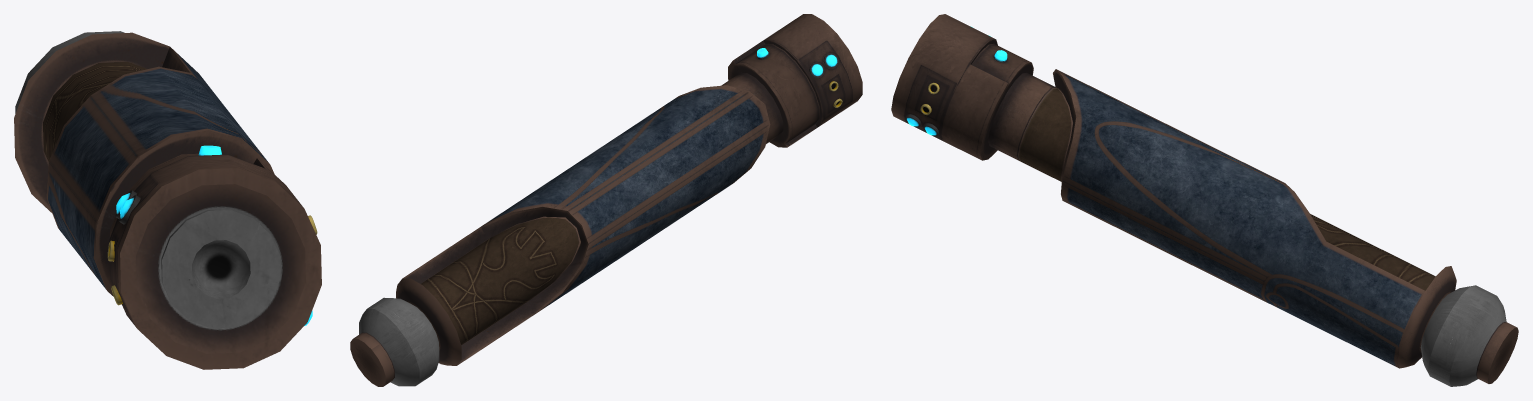
3 renders of one model, left to right at view 1: azimuth 30°, elevation 25°; view 2: azimuth 150°, elevation 25°; view 3: azimuth 270°, elevation 25°, orthographic. The views are drawn at different scales.
Visible parts, largest first — view 1: base_low_tex_0, grip_low_tex_0, det_low_tex_0; view 2: grip_low_tex_0, base_low_tex_0, det_low_tex_0; view 3: grip_low_tex_0, base_low_tex_0, det_low_tex_0.
Boxes of the visible parts, x1=… form: base_low_tex_0: x1=15, y1=31, x2=321, y2=369; grip_low_tex_0: x1=14, y1=32, x2=274, y2=296; det_low_tex_0: x1=107, y1=145, x2=317, y2=325; grip_low_tex_0: x1=396, y1=85, x2=770, y2=365; base_low_tex_0: x1=350, y1=14, x2=862, y2=386; det_low_tex_0: x1=757, y1=48, x2=842, y2=107; grip_low_tex_0: x1=1053, y1=69, x2=1456, y2=368; base_low_tex_0: x1=891, y1=14, x2=1518, y2=386; det_low_tex_0: x1=905, y1=26, x2=1007, y2=136.
Bounding box in the file's own units: 5.9 × 4.98 × 10.71.
1 material, 1 textured.
